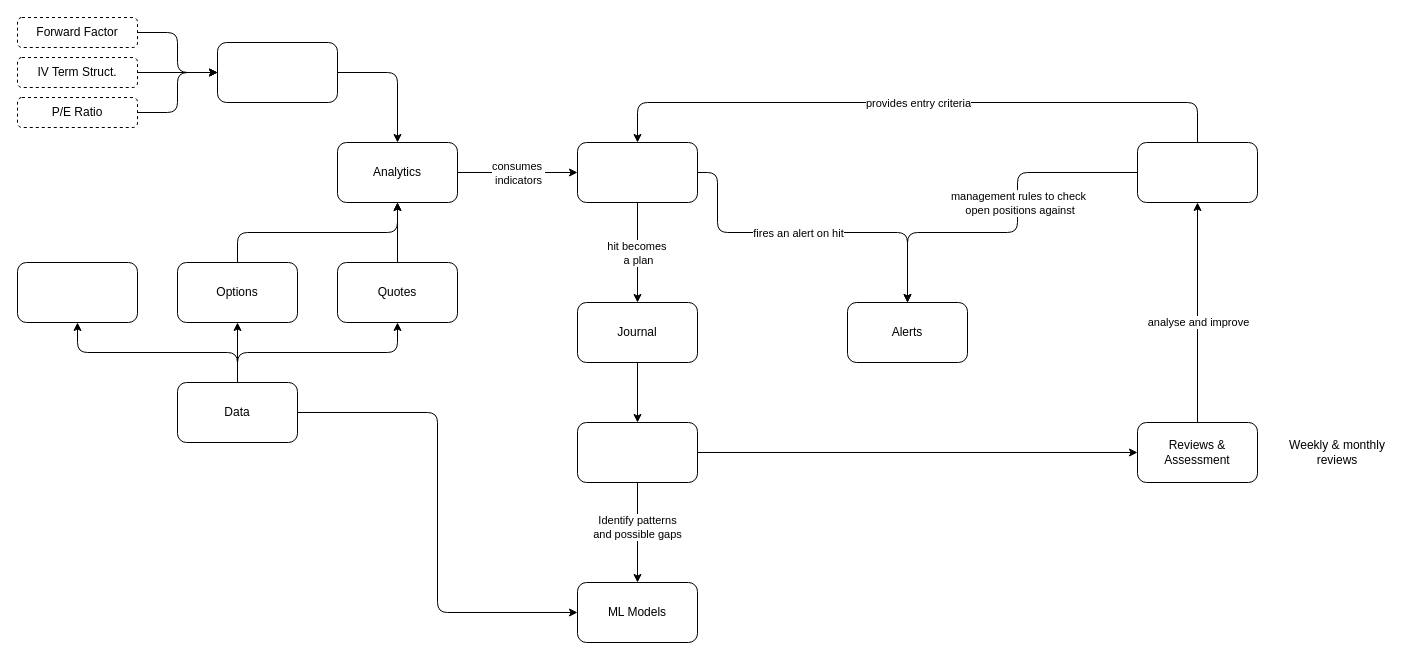
The diagram is 1405 pixels wide and 660 high, and some of its shapes have lost their labels. Here are the shapes that lost their labels. From the top down, the box of each, then its label:
(216, 42, 338, 102): Indicator Registry
(576, 142, 698, 202): Screeners
(1136, 142, 1258, 202): Playbooks
(16, 262, 138, 322): News
(576, 422, 698, 482): Trade Logs
